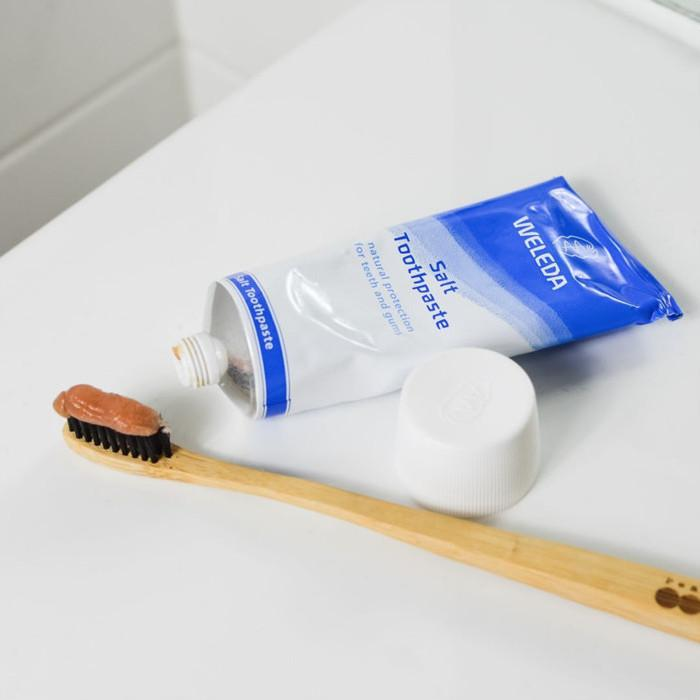toothpaste: (165, 145, 690, 424)
